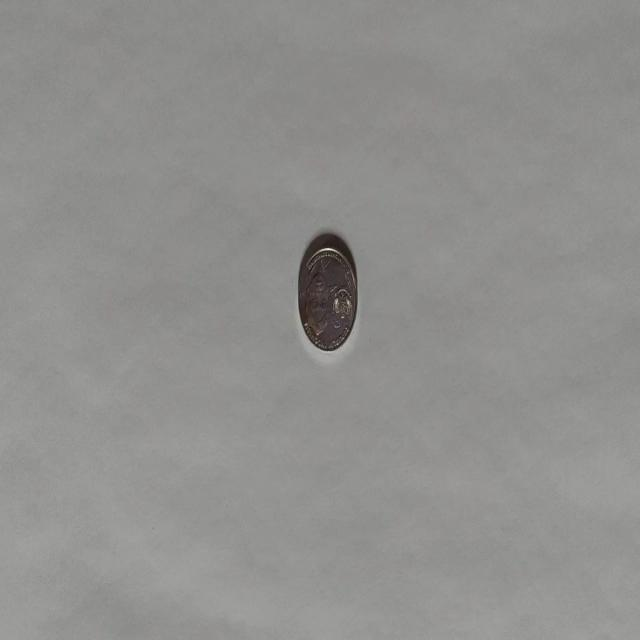dua ratus rupiah: (297, 235, 358, 353)
